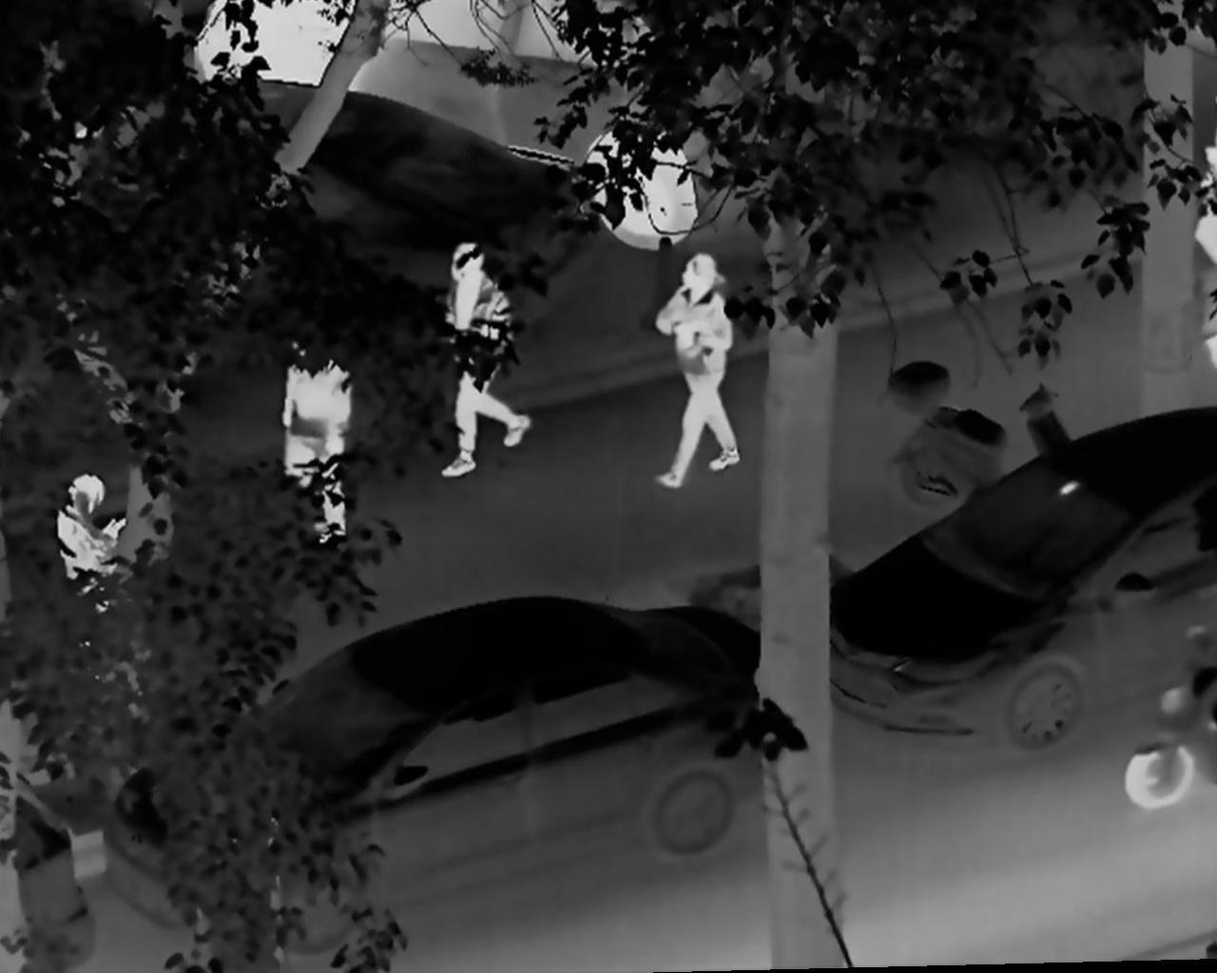person: (644, 251, 752, 495), (427, 239, 531, 485), (277, 334, 355, 551), (48, 469, 129, 625), (1187, 143, 1217, 386)
